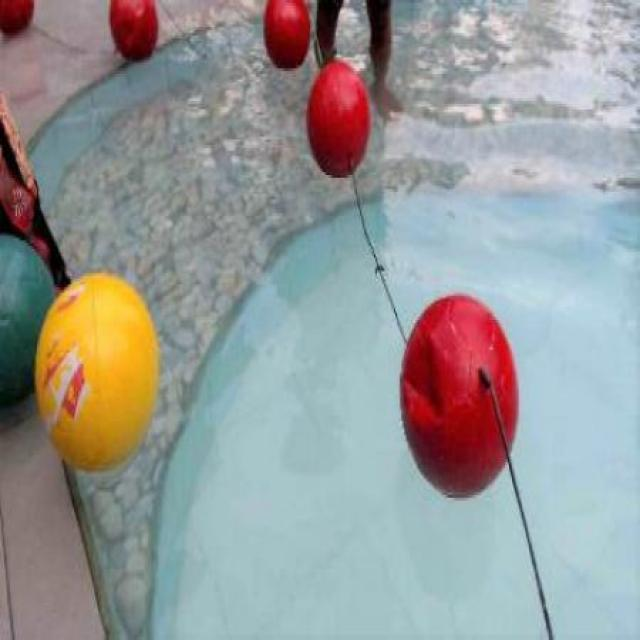buoy: (33, 270, 158, 474), (398, 292, 519, 496), (0, 231, 58, 409), (304, 59, 370, 176), (262, 1, 310, 70), (108, 1, 158, 59)
